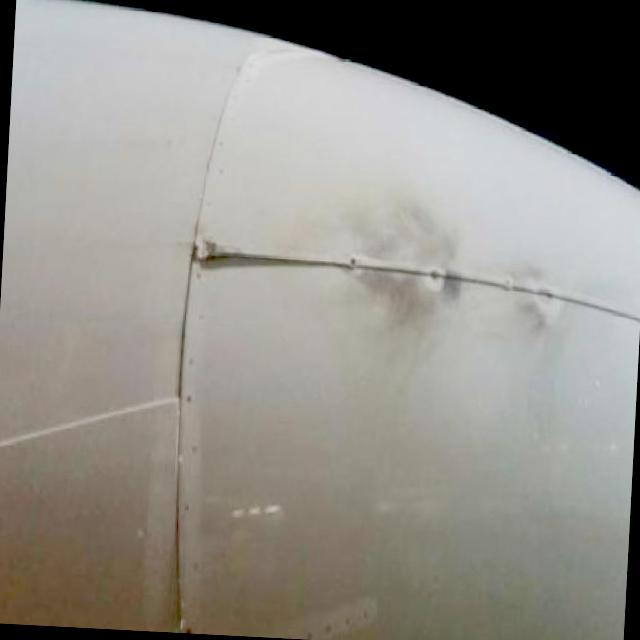crack: (188, 249, 340, 278)
